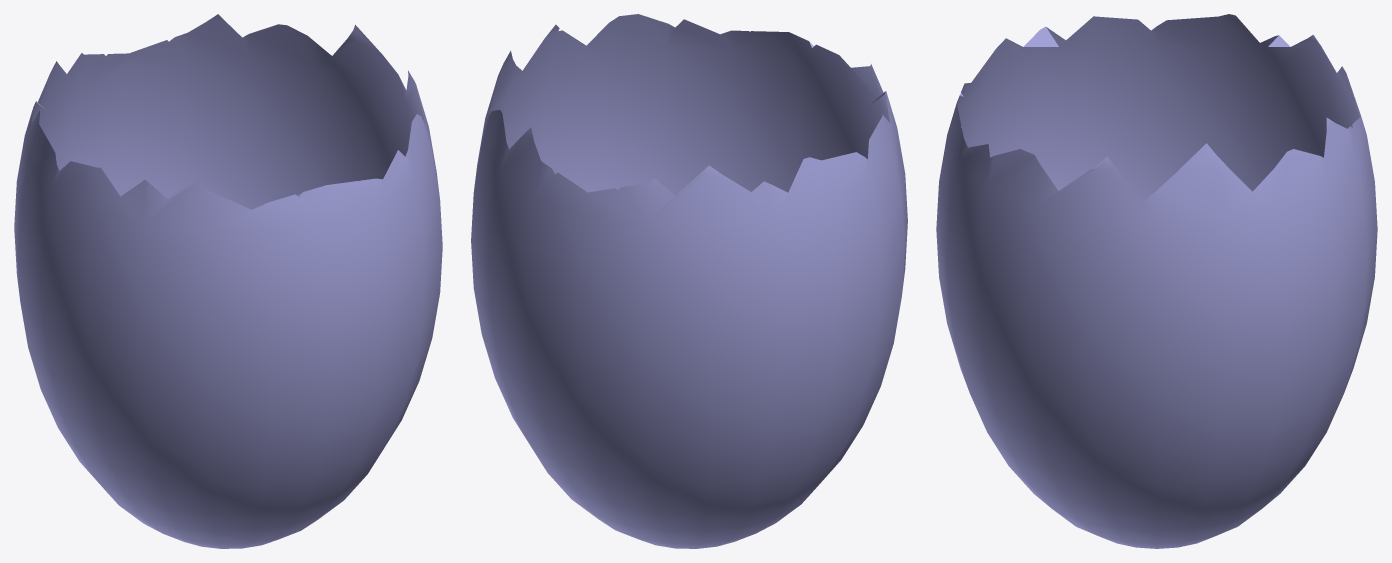
File: EggBroken.fbx
3 views of the same model, side by side, from view 1: azimuth 30°, elevation 25°; view 2: azimuth 150°, elevation 25°; view 3: azimuth 270°, elevation 25° (orthographic). The views are drawn at different scales.
Visible parts, largest first — view 1: EGG1; view 2: EGG1; view 3: EGG1.
Part boxes in pixels (<box>): EGG1: <box>14,14,442,548</box>; EGG1: <box>471,14,907,548</box>; EGG1: <box>936,14,1377,548</box>.
Bounding box in the file's own units: 2.79 × 3.26 × 2.79.
